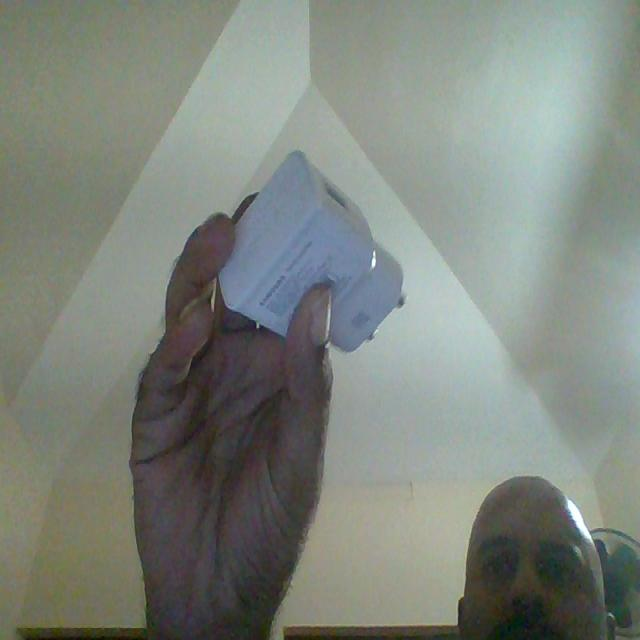charger: (215, 145, 409, 360)
